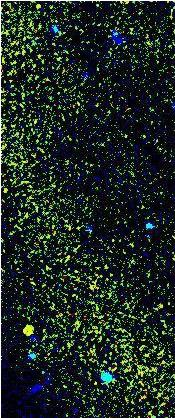star: (8, 313, 38, 343)
